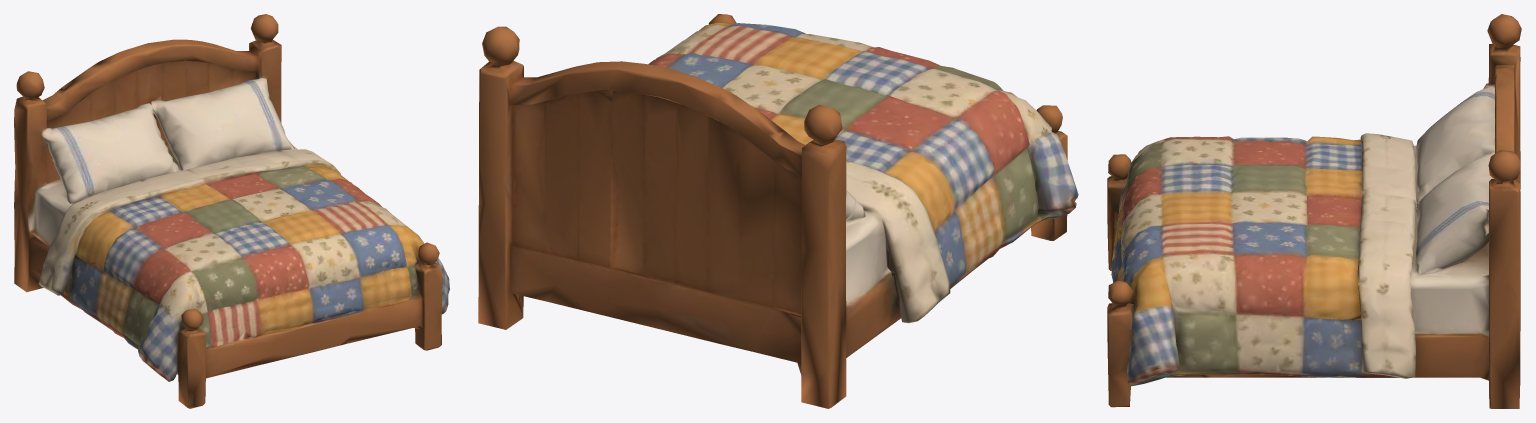
Rendered from bed.glb.
3 views of the same model, side by side, from view 1: azimuth 30°, elevation 25°; view 2: azimuth 150°, elevation 25°; view 3: azimuth 270°, elevation 25° (orthographic). The views are drawn at different scales.
Parts seen in each view (by area): view 1: bed-node; view 2: bed-node; view 3: bed-node.
Part boxes in pixels (x1,y1,x2,y2): bed-node: (14,14,449,408); bed-node: (478,14,1078,408); bed-node: (1107,14,1521,408).
Size of the model in its own units: 1.5 by 1 by 1.49.
Materials: 1 (1 with a texture image).
